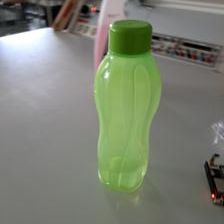bottle: (90, 18, 162, 189)
